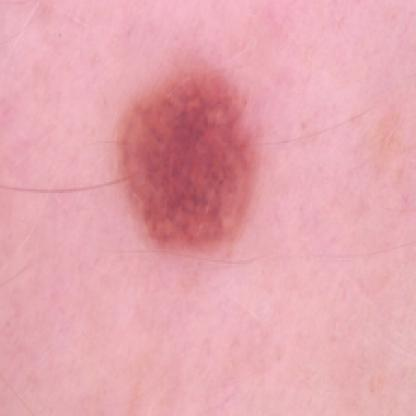benign: (119, 61, 269, 266)
